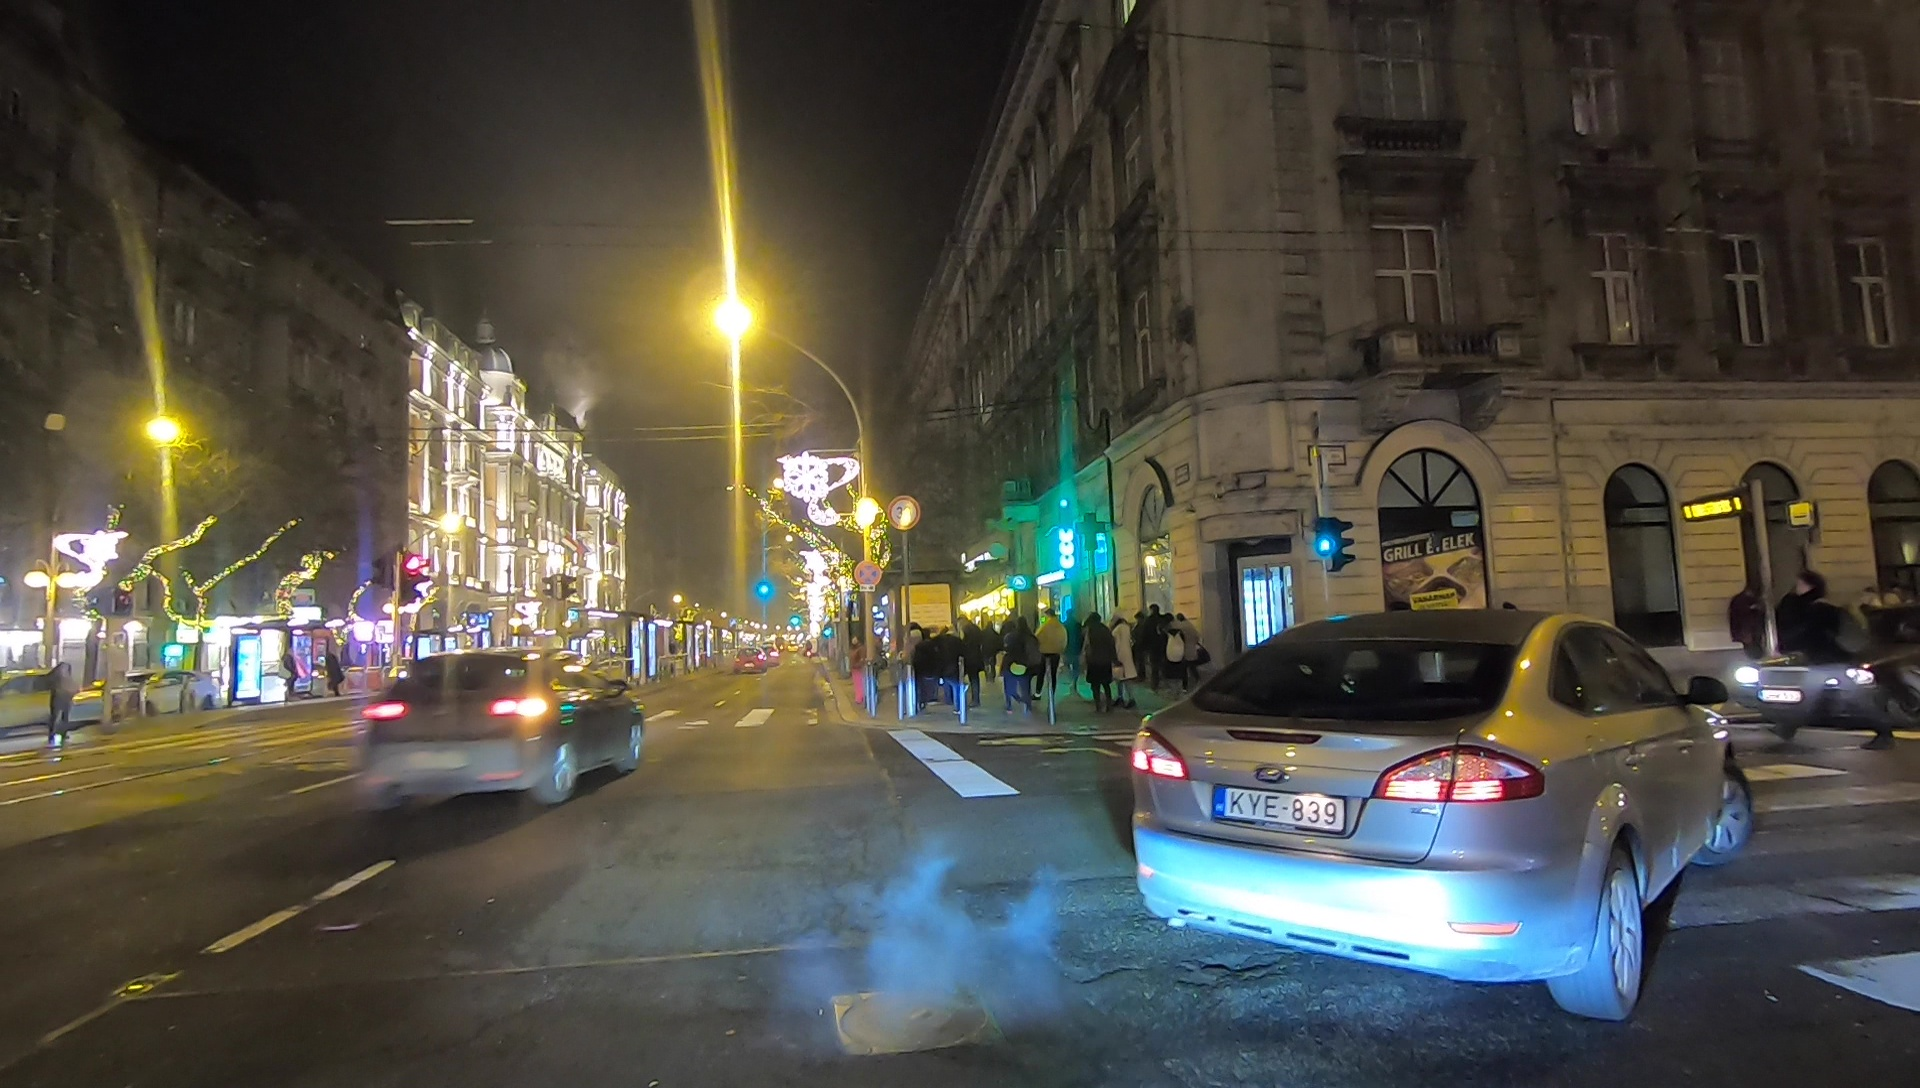person: (1771, 568, 1887, 749), (1732, 579, 1767, 663), (1108, 611, 1137, 703), (1085, 612, 1111, 706), (1040, 611, 1066, 693), (48, 662, 73, 742), (943, 629, 967, 714), (1147, 602, 1171, 683), (1177, 612, 1202, 686), (1017, 619, 1040, 696), (964, 615, 984, 704), (1004, 639, 1026, 705), (1132, 611, 1151, 683), (277, 645, 296, 699), (984, 622, 999, 676), (326, 651, 343, 694)
